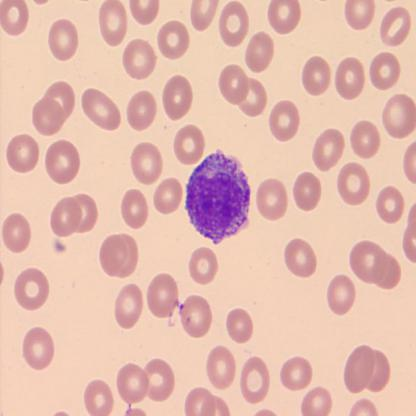Myelocyte: (188, 148, 254, 246)
